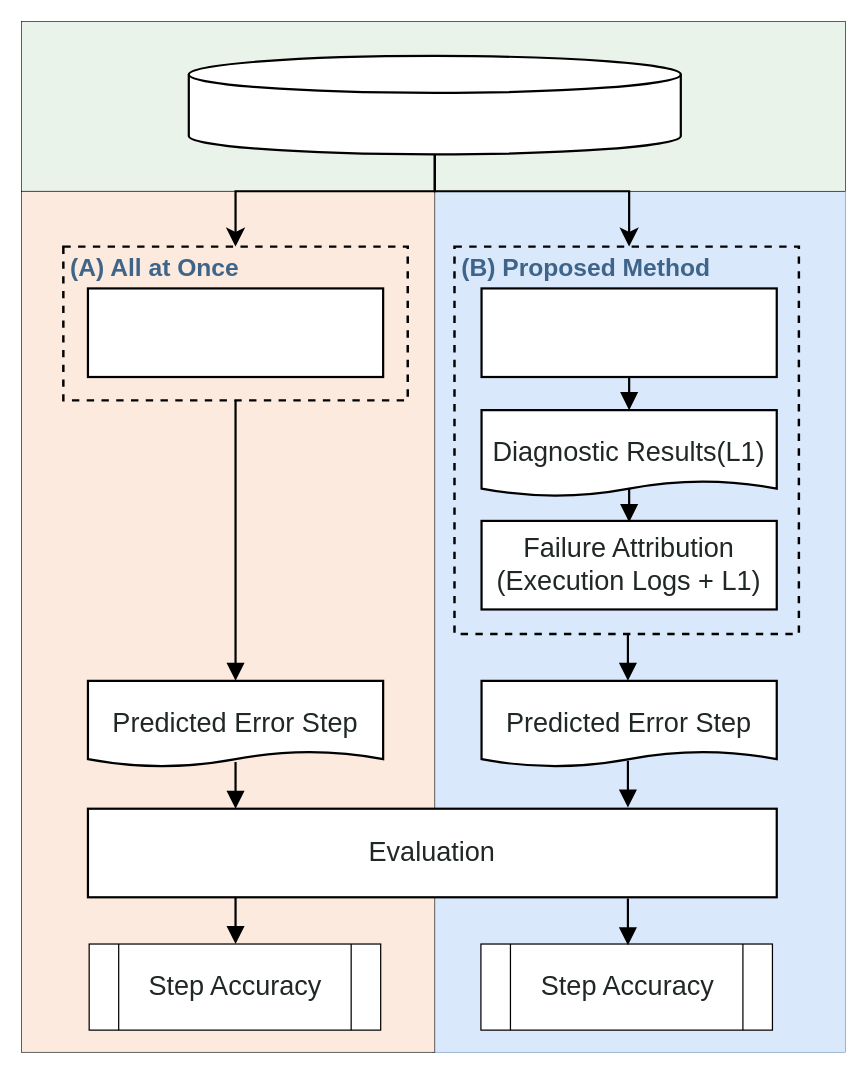
Image size: 867x1074. Some labels were removed from this diagram. The centre of each missing label's shape, as x and y in pixels:
"Agent Execution Logs" goes at point 434,104.
"Error Diagnosis" goes at point 628,332.
"Failure Attribution (Execution Logs Only)" goes at point 235,332.
